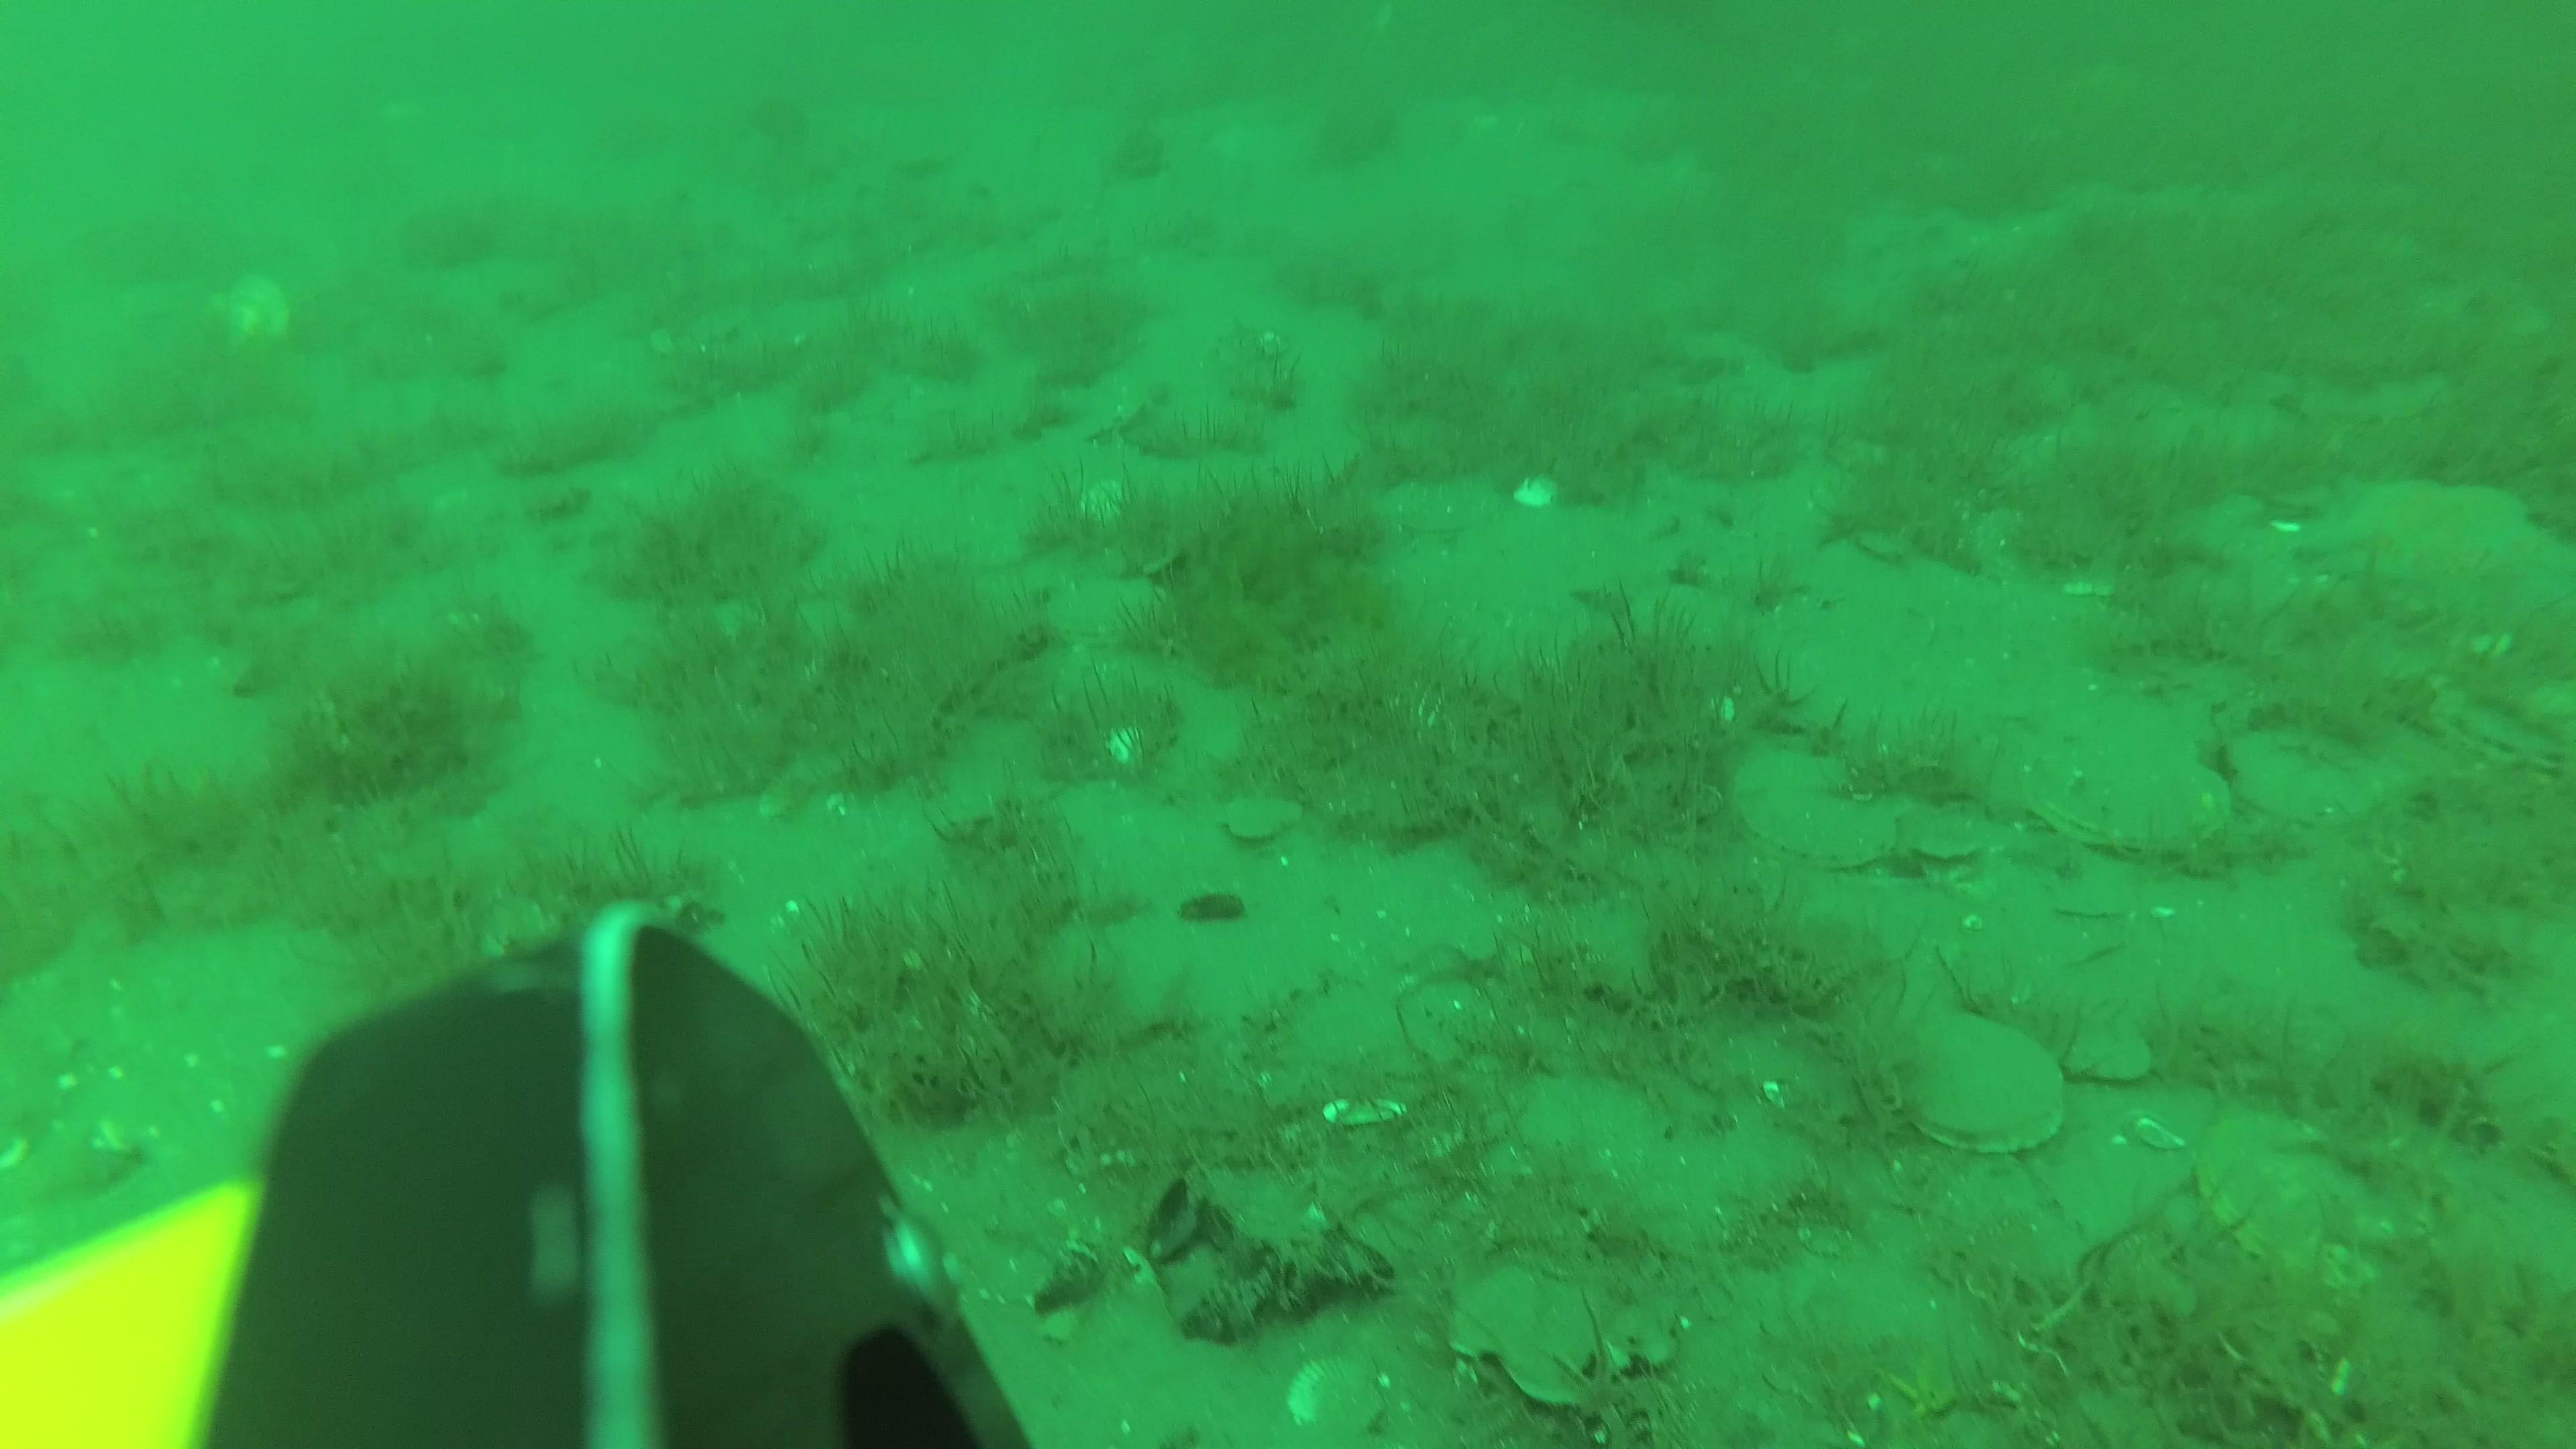scallop: (2197, 1104, 2381, 1272), (1890, 1014, 2068, 1152), (2031, 736, 2229, 853), (1736, 743, 1904, 869), (2233, 740, 2380, 828), (2443, 686, 2576, 770), (1051, 575, 1173, 649), (1292, 1357, 1387, 1437), (205, 280, 292, 347), (2059, 1021, 2153, 1083), (1387, 483, 1479, 540), (1219, 793, 1311, 844), (1913, 828, 1985, 865)
starfish: (2305, 481, 2569, 614)
